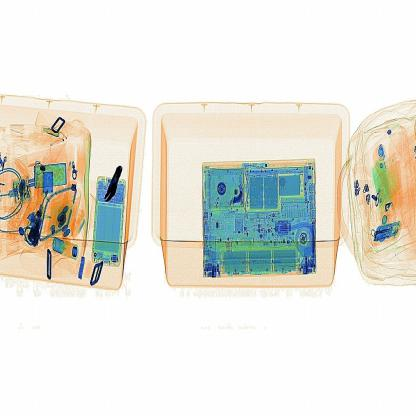knife: (97, 160, 130, 212)
